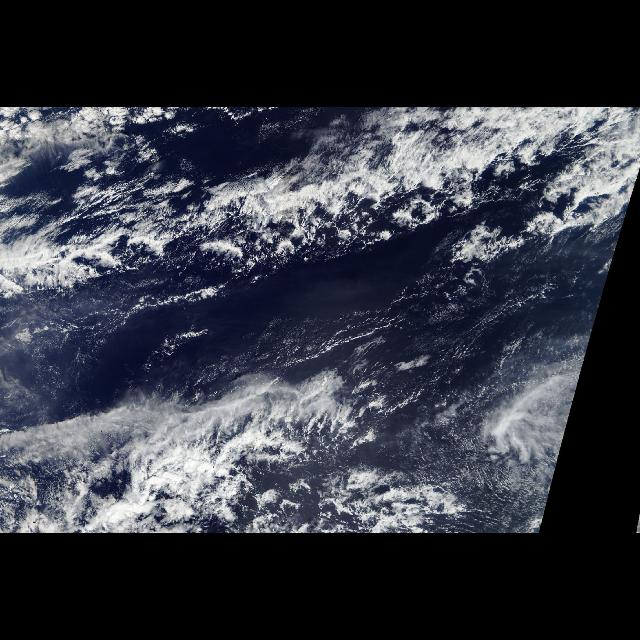Fish: (2, 358, 360, 478)
